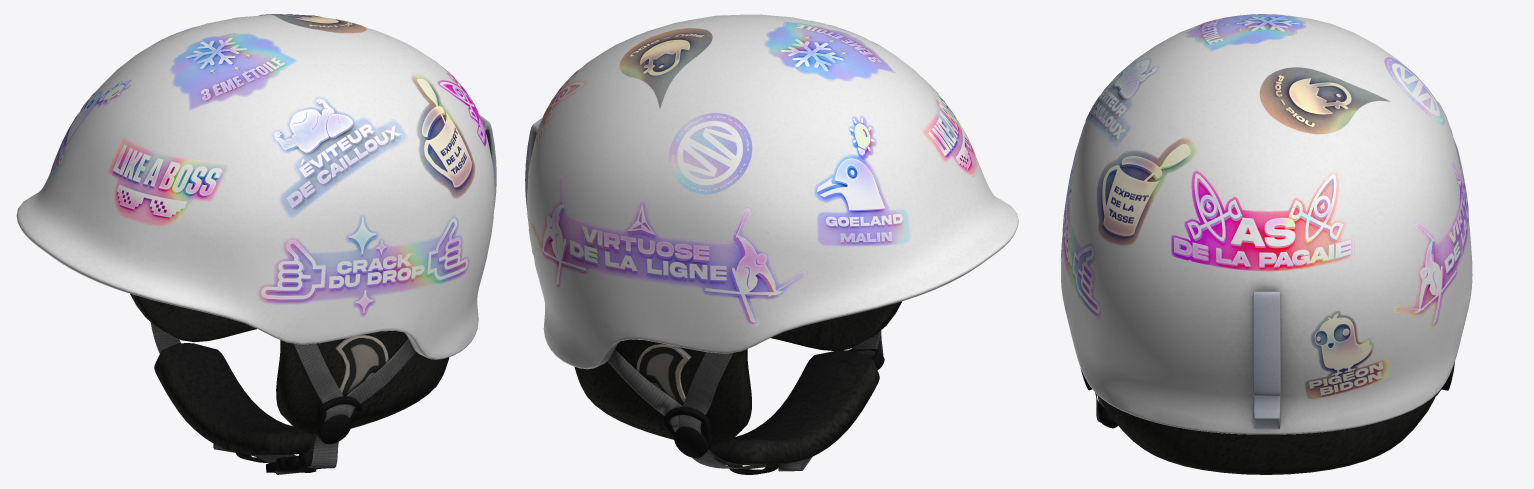
The model's file is helmet.glb.
3 renders of one model, left to right at view 1: azimuth 30°, elevation 25°; view 2: azimuth 150°, elevation 25°; view 3: azimuth 270°, elevation 25°, orthographic. The views are drawn at different scales.
Visible parts, largest first — view 1: Helmet, 1_WINGSUIT, 2_KAYAK, 0_LIKE_A_BOSS, 2_SKI, 3_KAYAK, 2_WINGSUIT, 3_SKI, 1_KAYAK; view 2: Helmet, 1_SKI, 2_WINGSUIT, 0_LOGO, 2_SKI, 3_SKI, 0_LIKE_A_BOSS, 1_KAYAK; view 3: Helmet, 1_KAYAK, 3_KAYAK, 3_SKI, 3_WINGSUIT, 1_SKI, 2_SKI, 2_KAYAK, 1_WINGSUIT, 0_LOGO.
Part boxes in pixels (x1,y1,x2,y2): Helmet: (16,15,496,474); 1_WINGSUIT: (257,214,469,317); 2_KAYAK: (271,96,407,218); 0_LIKE_A_BOSS: (107,137,230,226); 2_SKI: (169,33,297,110); 3_KAYAK: (411,74,475,199); 2_WINGSUIT: (50,79,131,182); 3_SKI: (259,14,366,33); 1_KAYAK: (437,67,486,146); Helmet: (525,14,1018,474); 1_SKI: (531,173,807,326); 2_WINGSUIT: (814,115,910,246); 0_LOGO: (669,113,752,194); 2_SKI: (764,21,895,81); 3_SKI: (619,28,712,108); 0_LIKE_A_BOSS: (921,78,977,176); 1_KAYAK: (536,68,586,146); Helmet: (1061,15,1472,474); 1_KAYAK: (1171,170,1354,271); 3_KAYAK: (1096,137,1196,246); 3_SKI: (1259,67,1390,134); 3_WINGSUIT: (1304,310,1390,399); 1_SKI: (1392,101,1468,329); 2_SKI: (1186,14,1305,51); 2_KAYAK: (1085,56,1159,146); 1_WINGSUIT: (1060,144,1101,318); 0_LOGO: (1384,57,1444,124).
Size of the model in its own units: 29.82 by 26.23 by 26.21.
13 materials, 13 textured.
